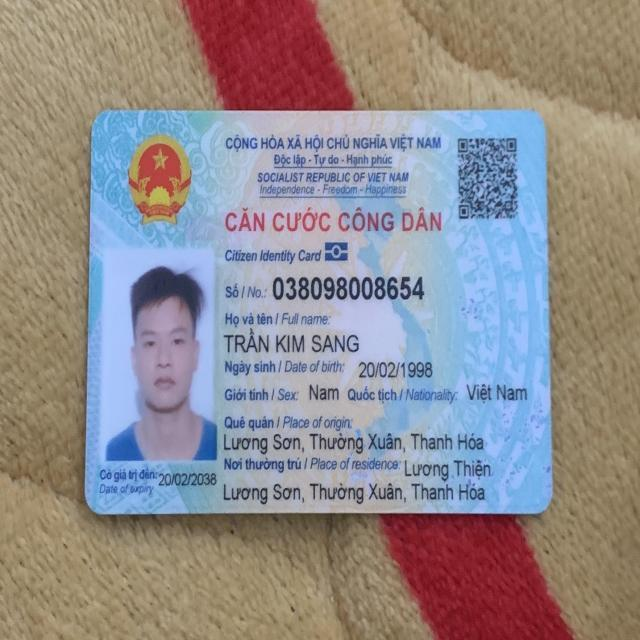current_place: (223, 474, 486, 507), (401, 453, 492, 478)
dob: (359, 356, 435, 379)
expire_date: (157, 465, 217, 491)
gender: (309, 380, 340, 407)
id: (270, 273, 428, 301)
name: (223, 328, 363, 358)
nationality: (460, 377, 527, 408)
origin_place: (224, 427, 486, 455)
